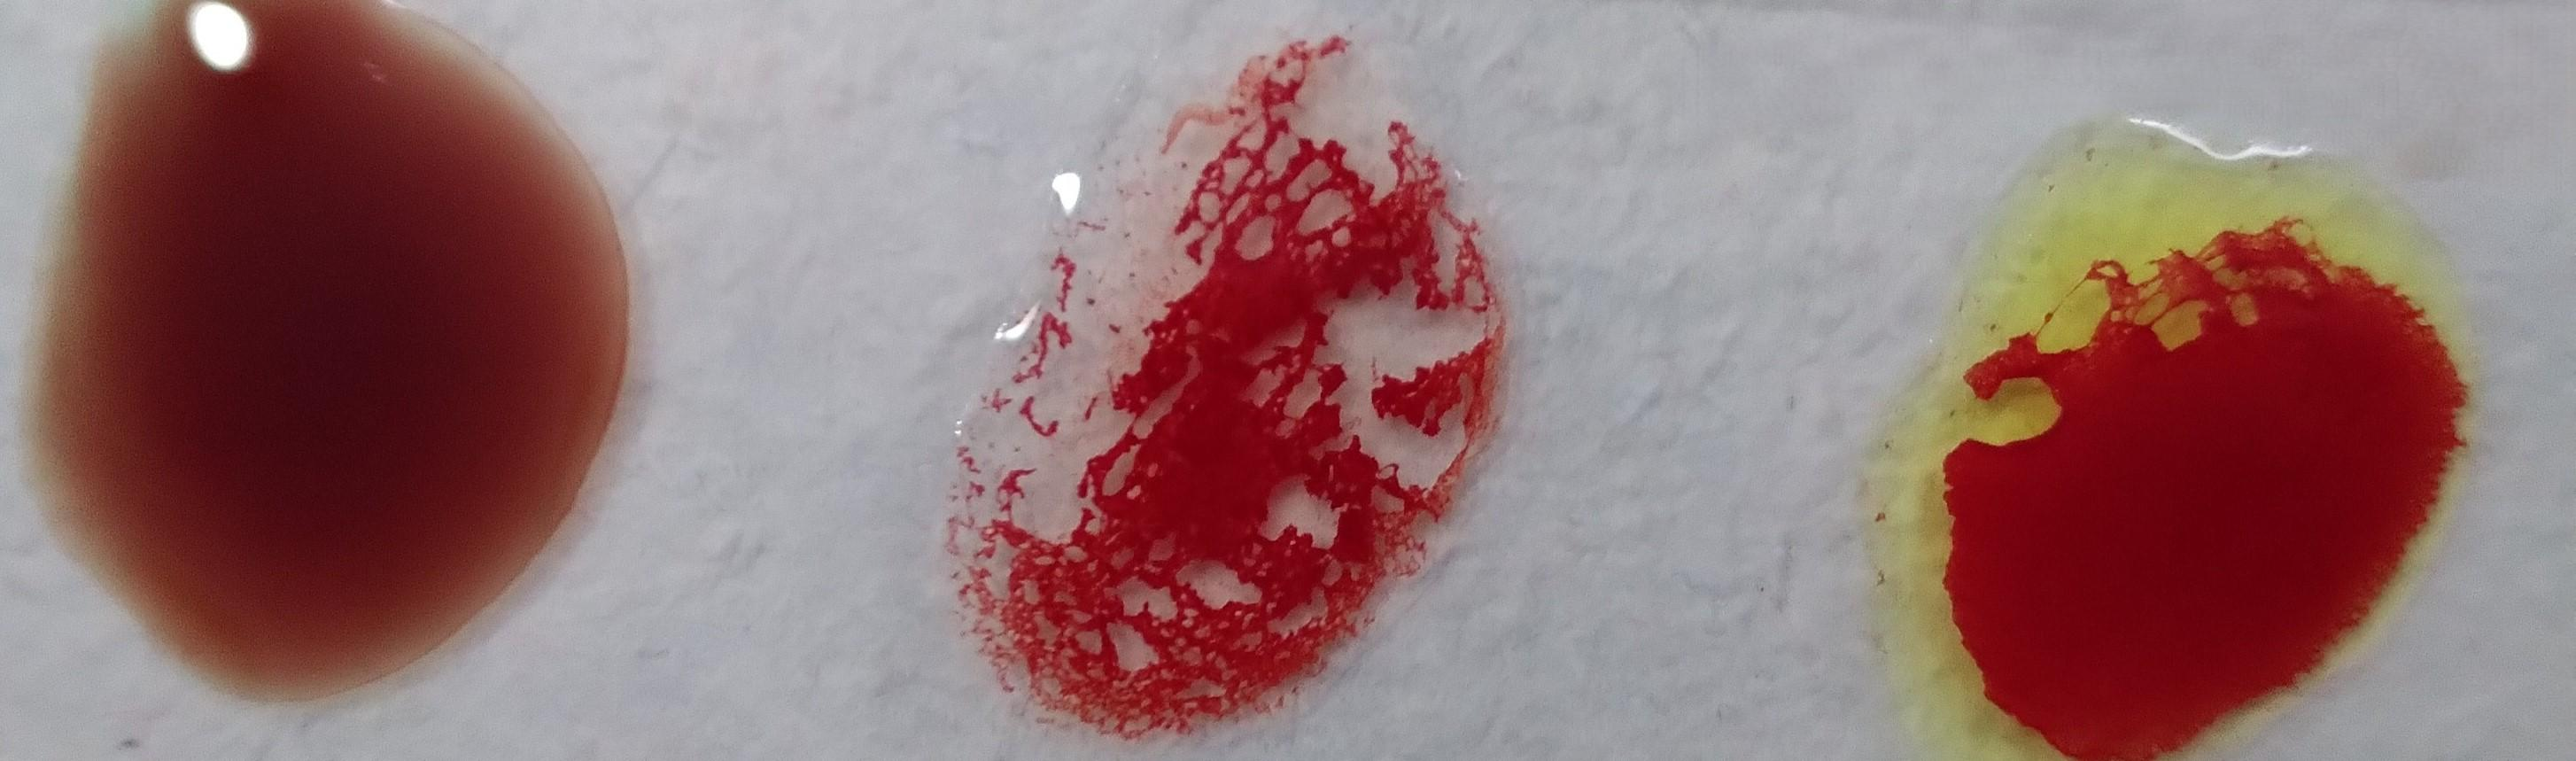B: (1921, 107, 2459, 758)
D: (958, 39, 1523, 741)
